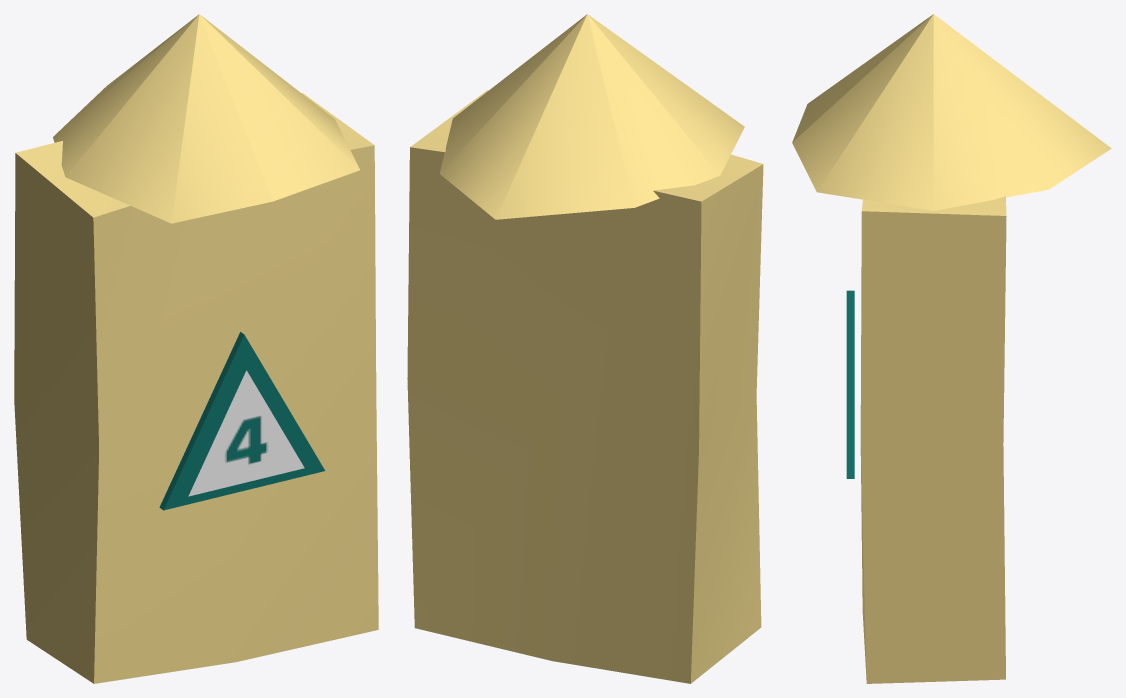
The model's file is breadBag.glb.
The picture shows the model from 3 angles, left to right: view 1: azimuth 30°, elevation 25°; view 2: azimuth 150°, elevation 25°; view 3: azimuth 270°, elevation 25°; orthographic projection. The views are drawn at different scales.
Visible parts, largest first — view 1: breadBag_mesh; view 2: breadBag_mesh; view 3: breadBag_mesh.
Boxes of the visible parts, x1,y1,x2,y2 form: breadBag_mesh: (14, 14, 378, 683); breadBag_mesh: (407, 14, 763, 683); breadBag_mesh: (792, 14, 1111, 683).
Bounding box in the file's own units: 0.3982 × 0.8096 × 0.3889.
1 material, 1 textured.
